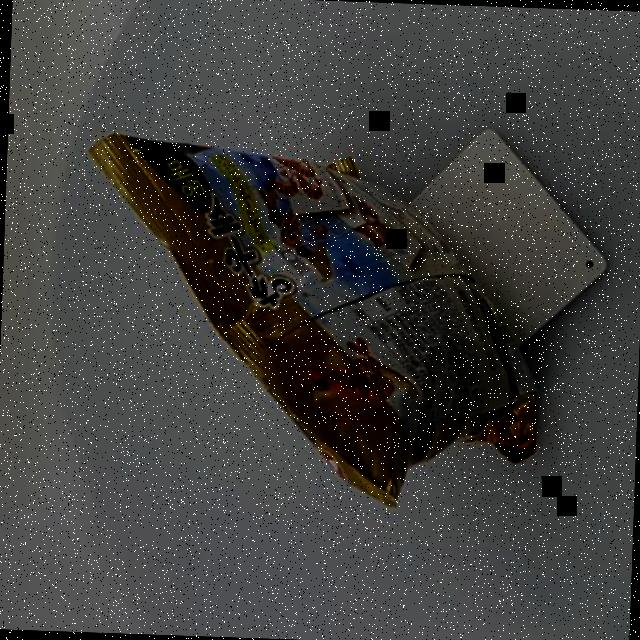snack_bag: (63, 110, 560, 519)
